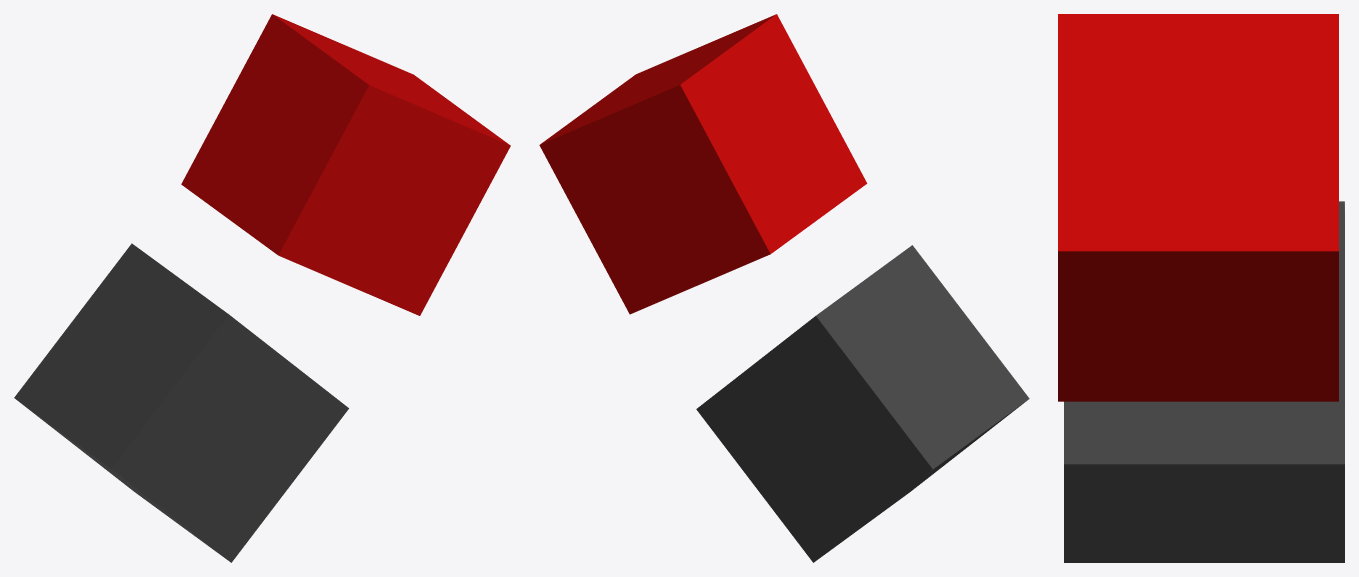
Rendered from boss_left_arm_upper.obj.
3 views of the same model, side by side, from view 1: azimuth 30°, elevation 25°; view 2: azimuth 150°, elevation 25°; view 3: azimuth 270°, elevation 25° (orthographic). The views are drawn at different scales.
Visible parts, largest first — view 1: float_R_arm_upper; view 2: float_R_arm_upper; view 3: float_R_arm_upper.
Part boxes in pixels (bbox=[...]): float_R_arm_upper: bbox=[14, 14, 510, 562]; float_R_arm_upper: bbox=[539, 14, 1029, 562]; float_R_arm_upper: bbox=[1058, 14, 1344, 562].
Size of the model in its own units: 0.4885 by 0.5236 by 0.211.
Materials: 1 (1 with a texture image).
